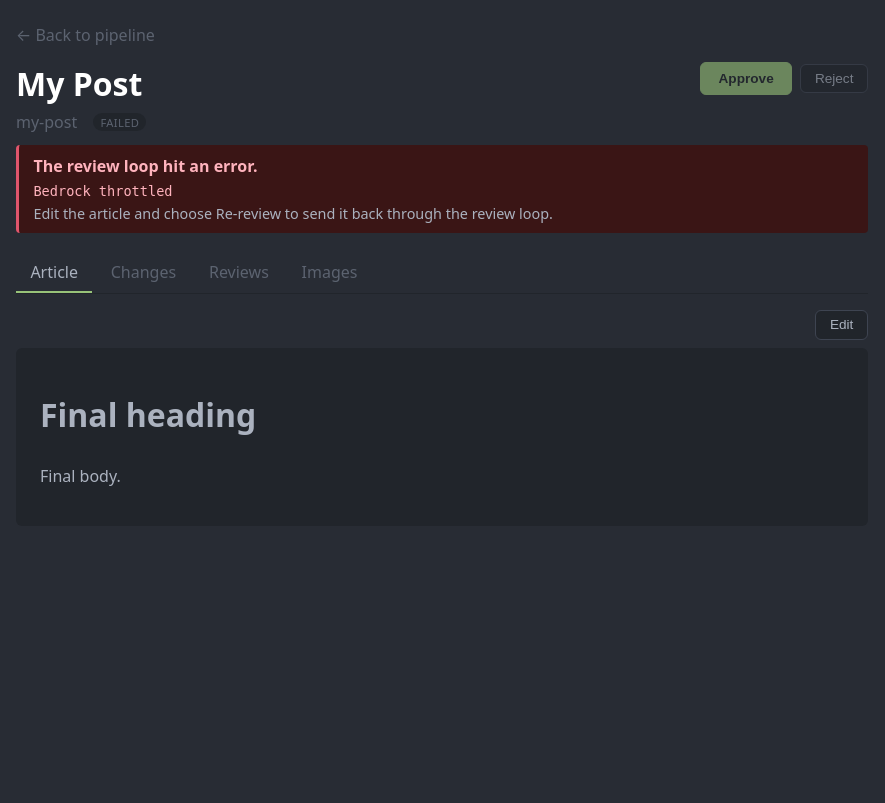
PostDetail — failed posts (PIPE-36) › says so when the re-review was already under way
The image size is (885, 803).
Expected: the heading "My Post" is shown, left=16, top=62, right=146, bottom=105
Click the button "Edit".
click(842, 325)  # box left=815, top=310, right=868, bottom=340
(page scrolled)
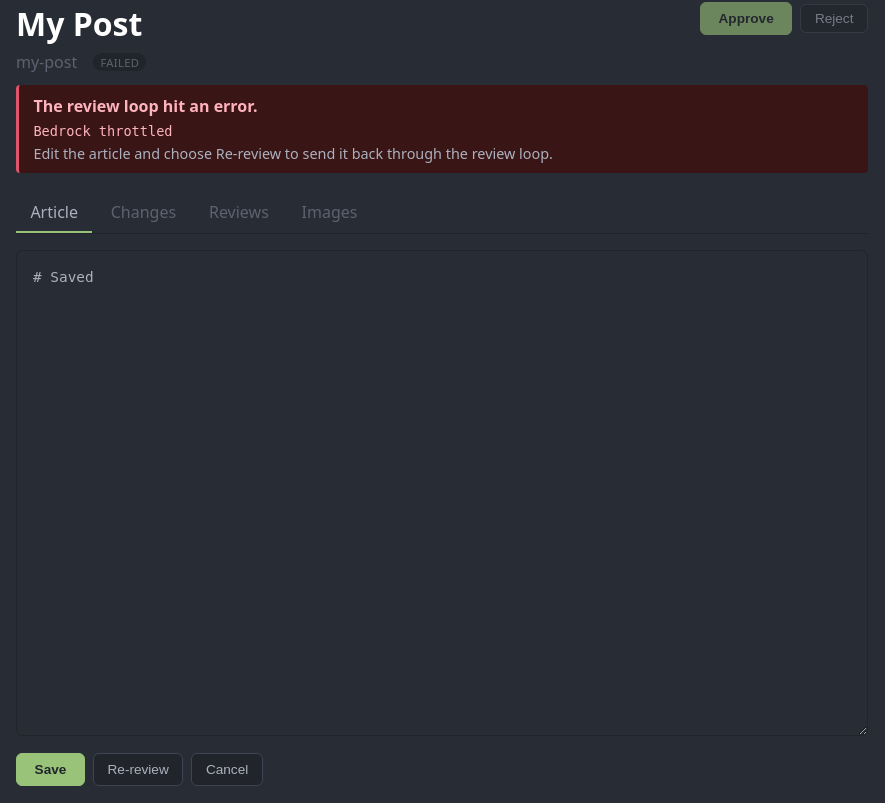
Now the text box named "Edit article Markdown" is shown, box left=16, top=250, right=868, bottom=736
Click the button "Re-review".
click(138, 769)  # box left=93, top=753, right=183, bottom=786
(page scrolled)
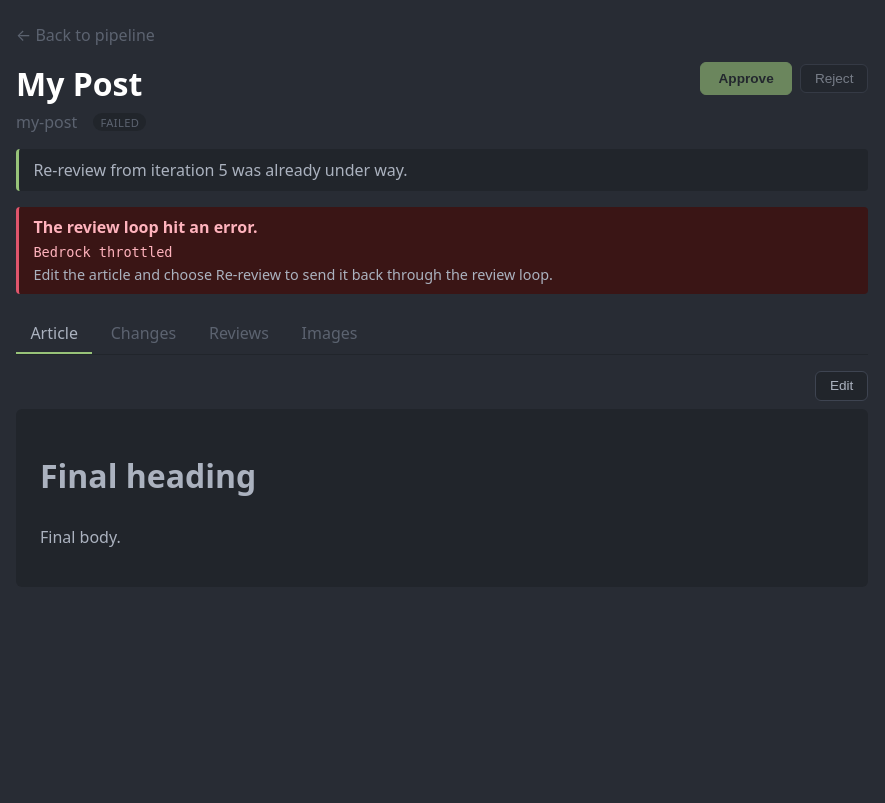
Now the text "Re-review from iteration 5 was already under way." is shown, box left=16, top=149, right=868, bottom=191
